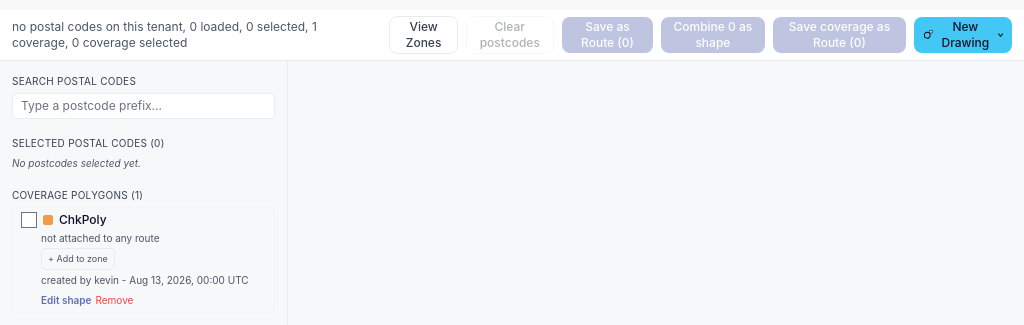
Test case: PolygonBuilder - coverage polygons + viewport › checkbox toggle selects / deselects
The width and height of the screenshot is (1024, 325).
(page scrolled)
Expected: the button "ChkPoly" is shown, [59,212,266,228]
What coordinates should you click on to do the following:
click the checkbox
I would click on:
 (29, 220)
Its box is [21,212,37,228].
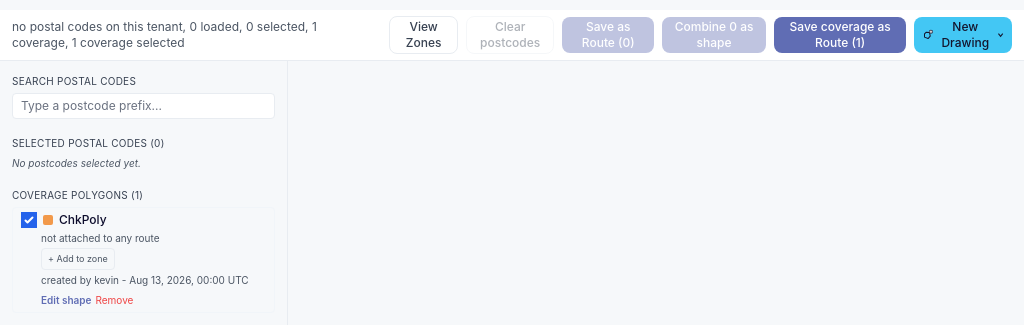
Expected: the button "Save coverage as Route (1)" is shown, [774,17,906,53]
What coordinates should you click on to do the following:
click the checkbox
I would click on:
 (29, 220)
Its box is [21,212,37,228].
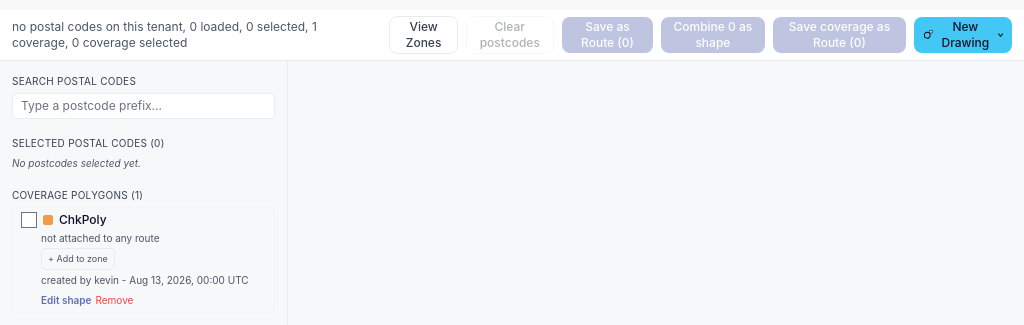
Expected: the button "Save coverage as Route (0)" is shown, [773,17,906,53]
